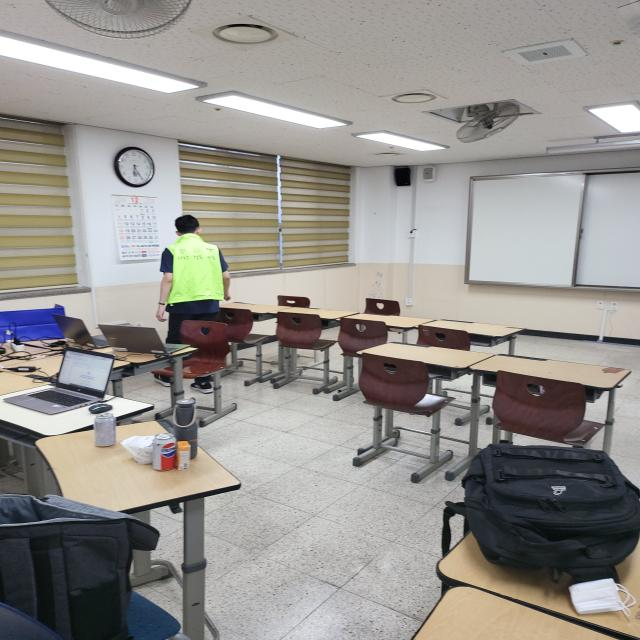weston_spy: (156, 228, 232, 310)
